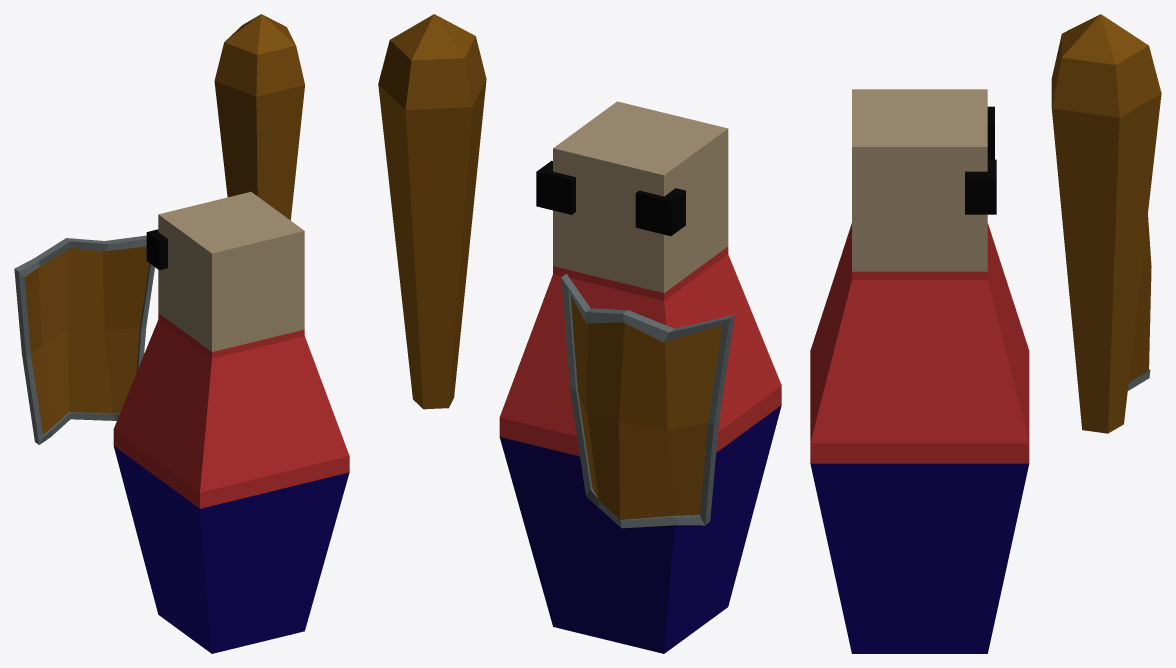
The model's file is Medieval.fbx_Tank.fbx.
3 views of the same model, side by side, from view 1: azimuth 30°, elevation 25°; view 2: azimuth 150°, elevation 25°; view 3: azimuth 270°, elevation 25° (orthographic). The views are drawn at different scales.
Parts seen in each view (by area): view 1: LargeMan.001, LargeWoodShield.001, Club.001; view 2: LargeMan.001, LargeWoodShield.001, Club.001; view 3: LargeMan.001, Club.001, LargeWoodShield.001.
Part boxes in pixels (bbox=[...]): LargeMan.001: bbox=[113, 192, 349, 653]; LargeWoodShield.001: bbox=[14, 235, 154, 444]; Club.001: bbox=[214, 14, 304, 220]; LargeMan.001: bbox=[499, 101, 781, 653]; LargeWoodShield.001: bbox=[561, 274, 734, 528]; Club.001: bbox=[378, 14, 486, 409]; LargeMan.001: bbox=[810, 89, 1029, 653]; Club.001: bbox=[1051, 14, 1161, 433]; LargeWoodShield.001: bbox=[1127, 214, 1151, 390].
Size of the model in its own units: 218 by 183 by 387.
